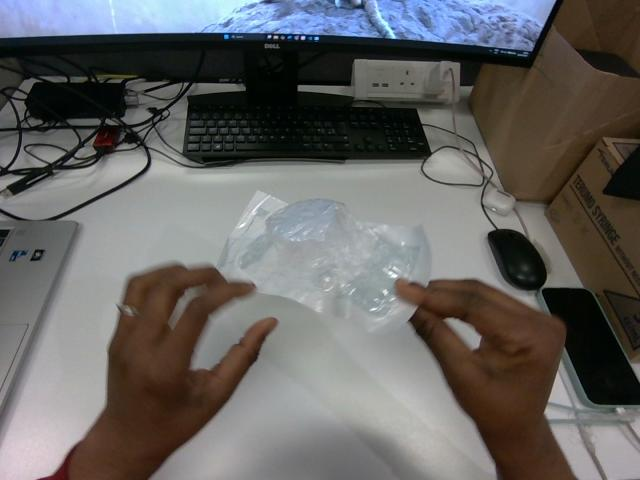gallipot: (218, 192, 430, 331)
